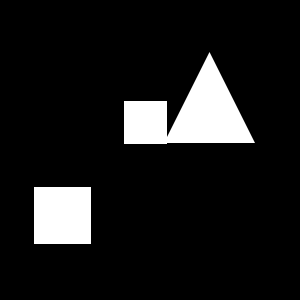circle: (34, 187, 91, 244), (124, 101, 167, 144)
triangle: (164, 52, 255, 143)
